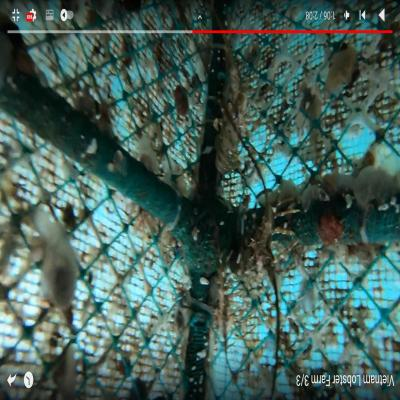lobster: (215, 60, 248, 176), (239, 204, 279, 286)
